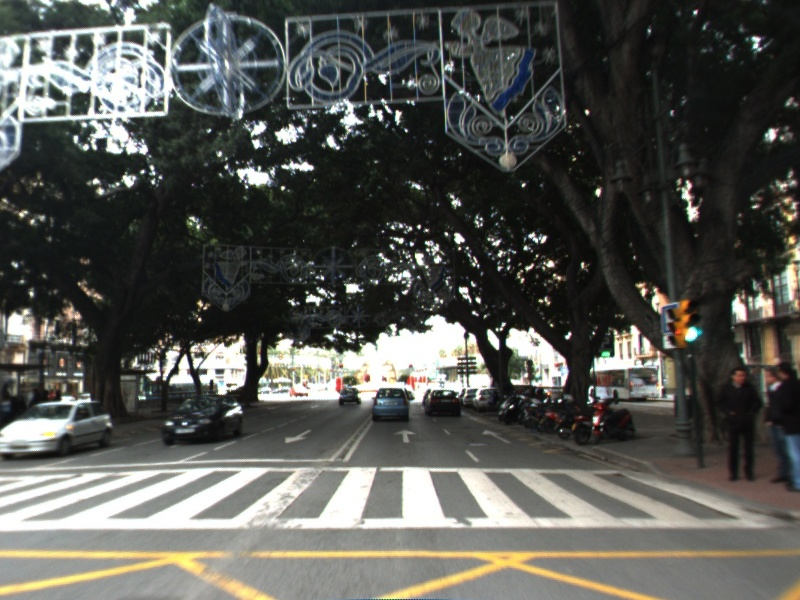STRAIGHT: (480, 427, 515, 446), (391, 427, 418, 445)
